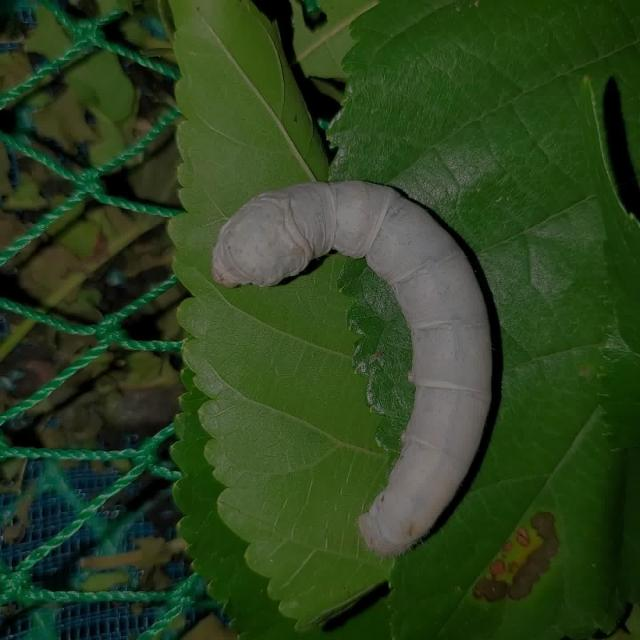Healthy: (202, 161, 507, 567)
